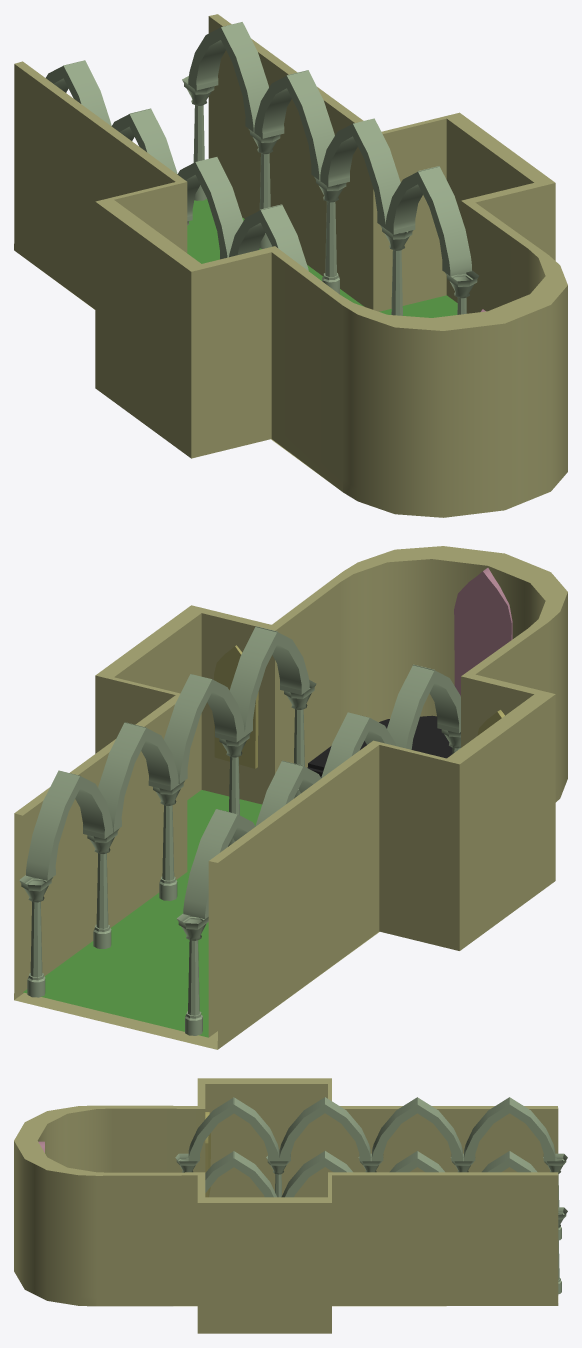
Rendered from Church_Inside.fbx.
3 views of the same model, one above another, from view 1: azimuth 30°, elevation 25°; view 2: azimuth 150°, elevation 25°; view 3: azimuth 270°, elevation 25° (orthographic). The views are drawn at different scales.
Parts seen in each view (by area): view 1: pCube1, pCube19, pCube21, pCube23, pCube17, pCube8, pCube18, pCube22, pCube24, pCube16, pCube20, pCube14 (+7 smaller); view 2: pCube1, pCube2, pCube24, pCube15, pCube20, pCube22, pCube18, pCube10, pCylinder11, pCylinder5, pCube27, polySurface2 (+11 smaller); view 3: pCube1, pCube15, pCube16, pCube10, pCube8, pCube11, pCube13, pCube12, pCube14, pCube18, pCube17, pCube19 (+7 smaller).
Boxes of the visible parts, <box> form: pCube1: <box>14,14,567,517</box>; pCube19: <box>417,166,471,276</box>; pCube21: <box>287,70,334,180</box>; pCube23: <box>221,22,268,132</box>; pCube17: <box>353,118,400,228</box>; pCube8: <box>195,157,243,259</box>; pCube18: <box>385,166,439,234</box>; pCube22: <box>254,70,307,138</box>; pCube24: <box>188,25,226,90</box>; pCube16: <box>260,204,308,270</box>; pCube20: <box>320,124,357,186</box>; pCube14: <box>63,60,111,125</box>; pCube1: <box>14,546,567,1049</box>; pCube2: <box>454,568,512,696</box>; pCube24: <box>26,770,80,880</box>; pCube15: <box>183,809,237,919</box>; pCube20: <box>164,674,212,784</box>; pCube22: <box>98,722,146,832</box>; pCube18: <box>229,626,277,735</box>; pCube10: <box>387,664,434,749</box>; pCylinder11: <box>19,875,52,997</box>; pCylinder5: <box>176,913,208,1035</box>; pCube27: <box>214,645,258,768</box>; polySurface2: <box>307,715,452,777</box>; pCube1: <box>14,1078,558,1333</box>; pCube15: <box>509,1097,555,1161</box>; pCube16: <box>188,1097,234,1161</box>; pCube10: <box>233,1097,279,1161</box>; pCube8: <box>279,1097,325,1161</box>; pCube11: <box>372,1097,417,1161</box>; pCube13: <box>417,1097,462,1161</box>; pCube12: <box>325,1097,370,1161</box>; pCube14: <box>464,1097,509,1161</box>; pCube18: <box>233,1151,276,1197</box>; pCube17: <box>281,1151,325,1197</box>; pCube19: <box>205,1151,234,1192</box>.
Size of the model in its own units: 23.16 by 12.55 by 43.59.
